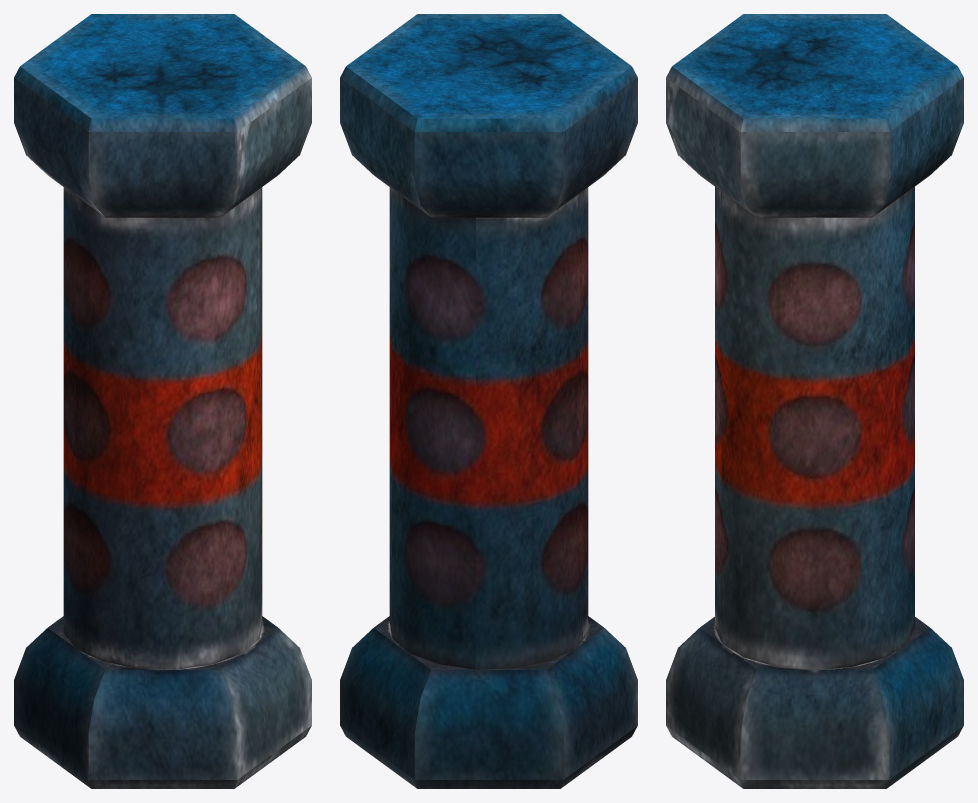
The model's file is flash_grenade.glb.
The picture shows the model from 3 angles, left to right: view 1: azimuth 30°, elevation 25°; view 2: azimuth 150°, elevation 25°; view 3: azimuth 270°, elevation 25°; orthographic projection.
Visible parts, largest first — view 1: flashbang_low; view 2: flashbang_low; view 3: flashbang_low.
Part boxes in pixels (x1,y1,x2,y2): flashbang_low: (14, 14, 311, 788); flashbang_low: (340, 14, 637, 788); flashbang_low: (666, 14, 963, 788).
Size of the model in its own units: 0.0419 by 0.1201 by 0.0484.
Materials: 1 (1 with a texture image).
